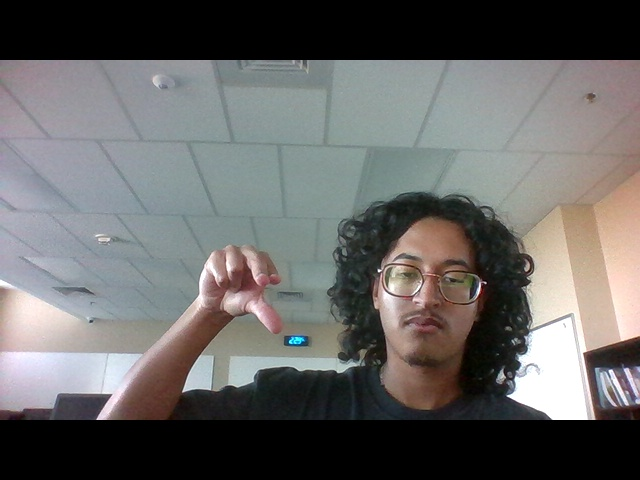no: (194, 236, 301, 348)
